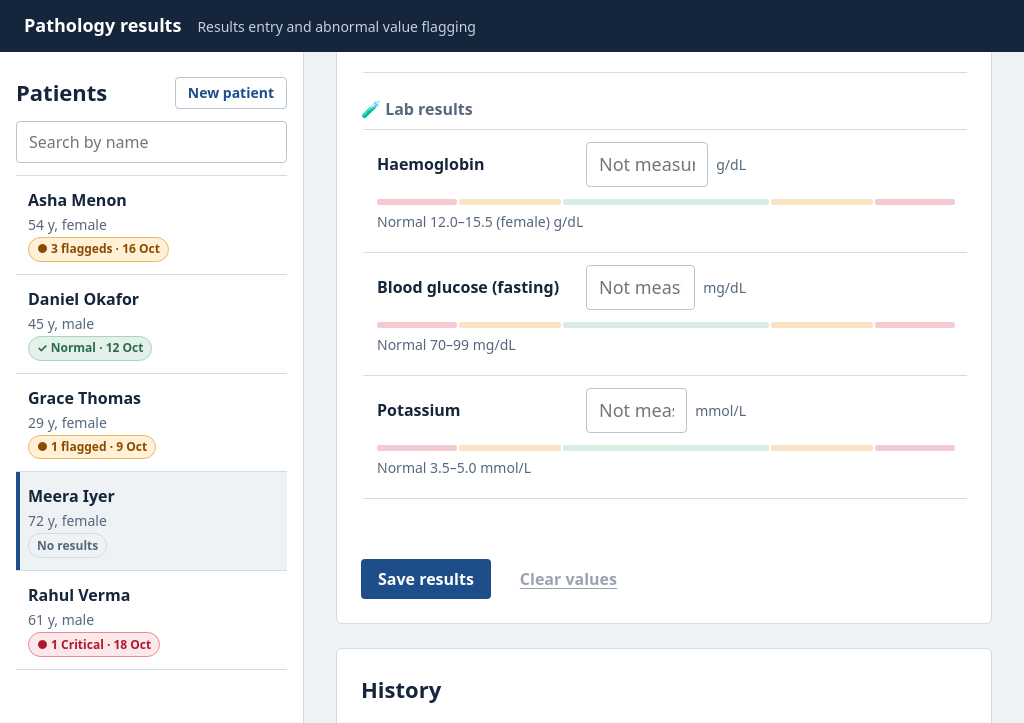
results entry › flags values as the nurse types, with a text label next to the field
(page scrolled)
Expected: the button "Save results" is shown, [361,559,491,599]
Type "6.4" into the field labelled "Potassium" at (637,410), box [586,388,687,433]
(page scrolled)
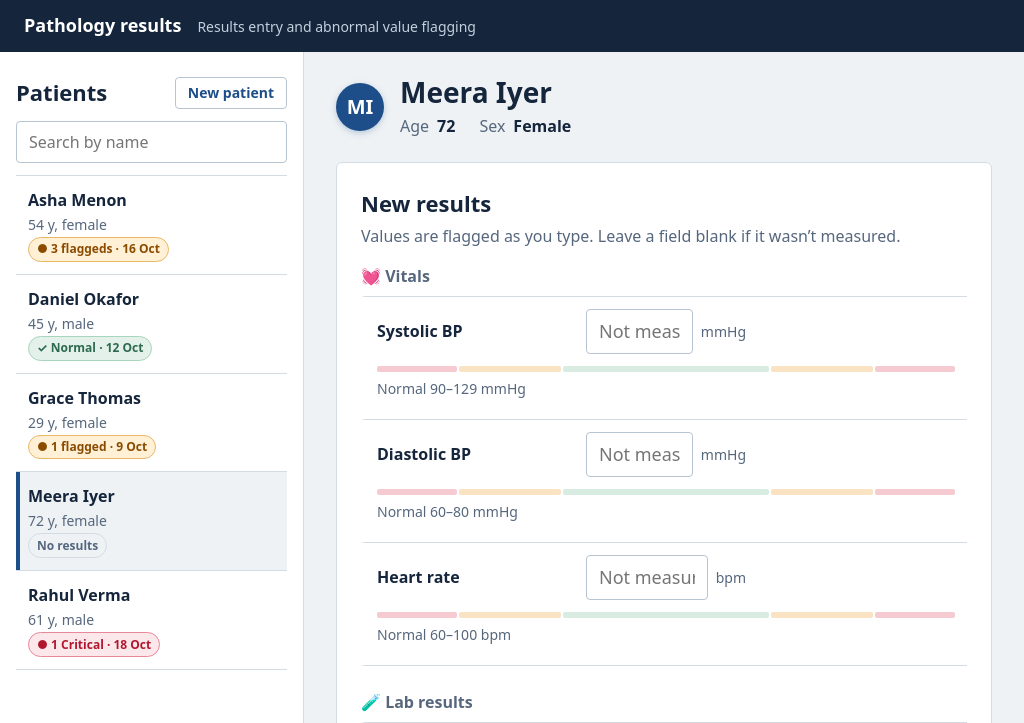
Type "145" into the field labelled "Systolic BP" at (639,331), box [586,309,693,354]
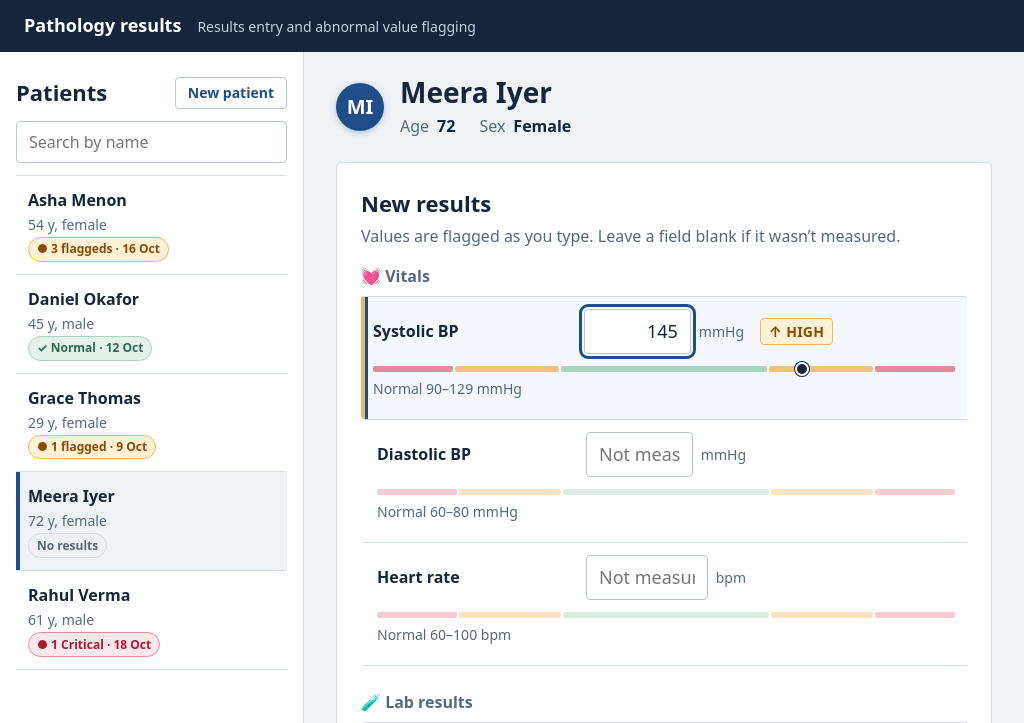
Replace the text in the field labelled "Systolic BP" with "120" at (637,331), box [584,309,691,354]
(page scrolled)
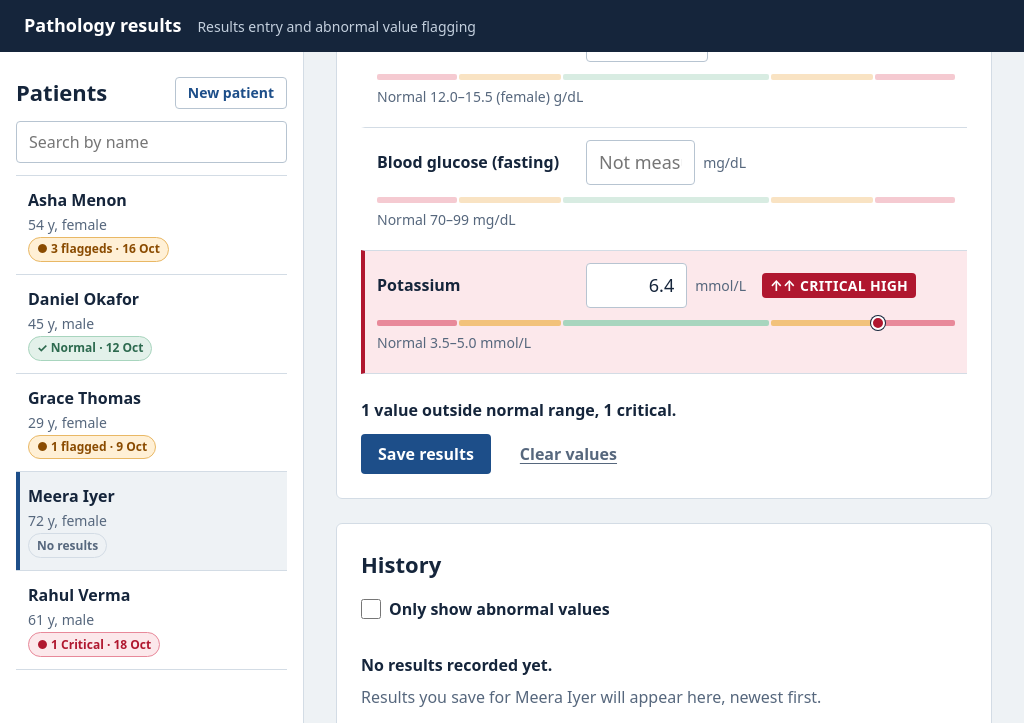
Expected: the text "1 value outside normal range, 1 critical." is shown, [361,399,676,421]
